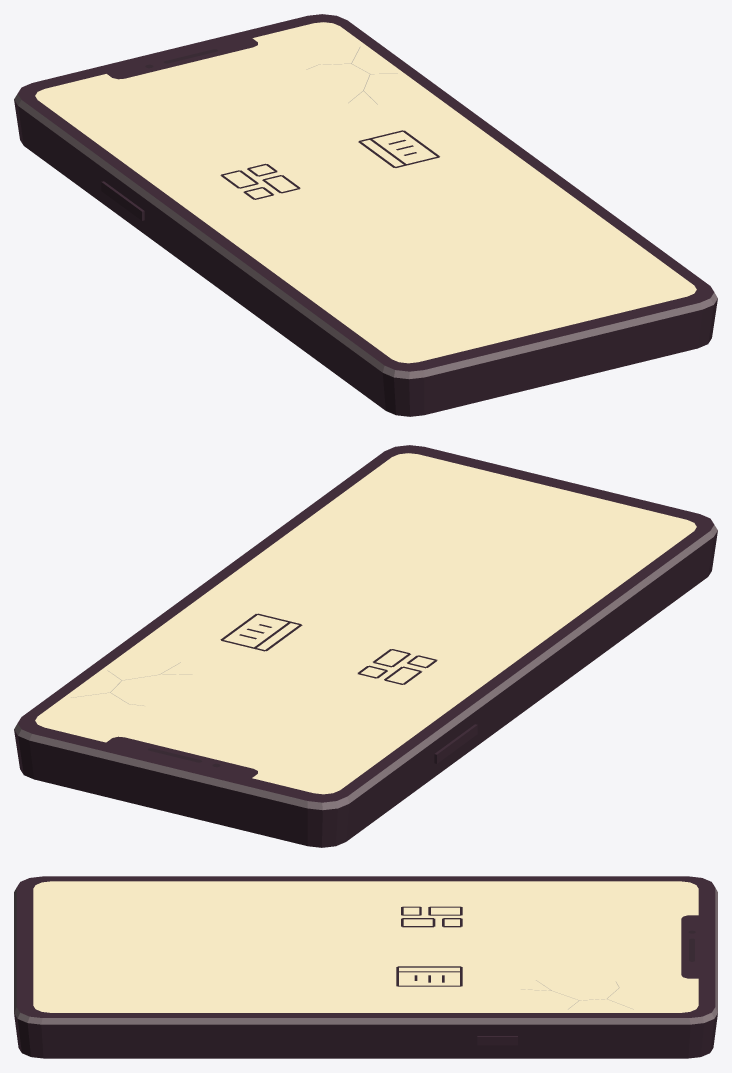
The model's file is phone_pickup.glb.
The picture shows the model from 3 angles, top to bottom: view 1: azimuth 30°, elevation 25°; view 2: azimuth 150°, elevation 25°; view 3: azimuth 270°, elevation 25°; orthographic projection. The views are drawn at different scales.
Visible parts, largest first — view 1: phone_screen, phone_shell, phone_notch, phone_app_feed, phone_app_notebook; view 2: phone_screen, phone_shell, phone_notch, phone_app_feed; view 3: phone_screen, phone_shell, phone_notch, phone_app_feed, phone_app_notebook, phone_power_button.
Boxes of the visible parts, x1,y1,x2,y2 form: phone_screen: [35, 22, 696, 363]; phone_shell: [14, 14, 717, 416]; phone_notch: [105, 36, 257, 79]; phone_app_feed: [220, 163, 300, 199]; phone_app_notebook: [358, 130, 439, 167]; phone_screen: [35, 453, 696, 794]; phone_shell: [14, 445, 717, 847]; phone_notch: [105, 736, 257, 779]; phone_app_feed: [357, 649, 437, 684]; phone_screen: [33, 881, 698, 1012]; phone_shell: [14, 876, 717, 1058]; phone_notch: [681, 915, 701, 978]; phone_app_feed: [401, 906, 462, 927]; phone_app_notebook: [396, 966, 462, 986]; phone_power_button: [477, 1036, 517, 1045].
Size of the model in its own units: 0.076 by 0.0102 by 0.155.
